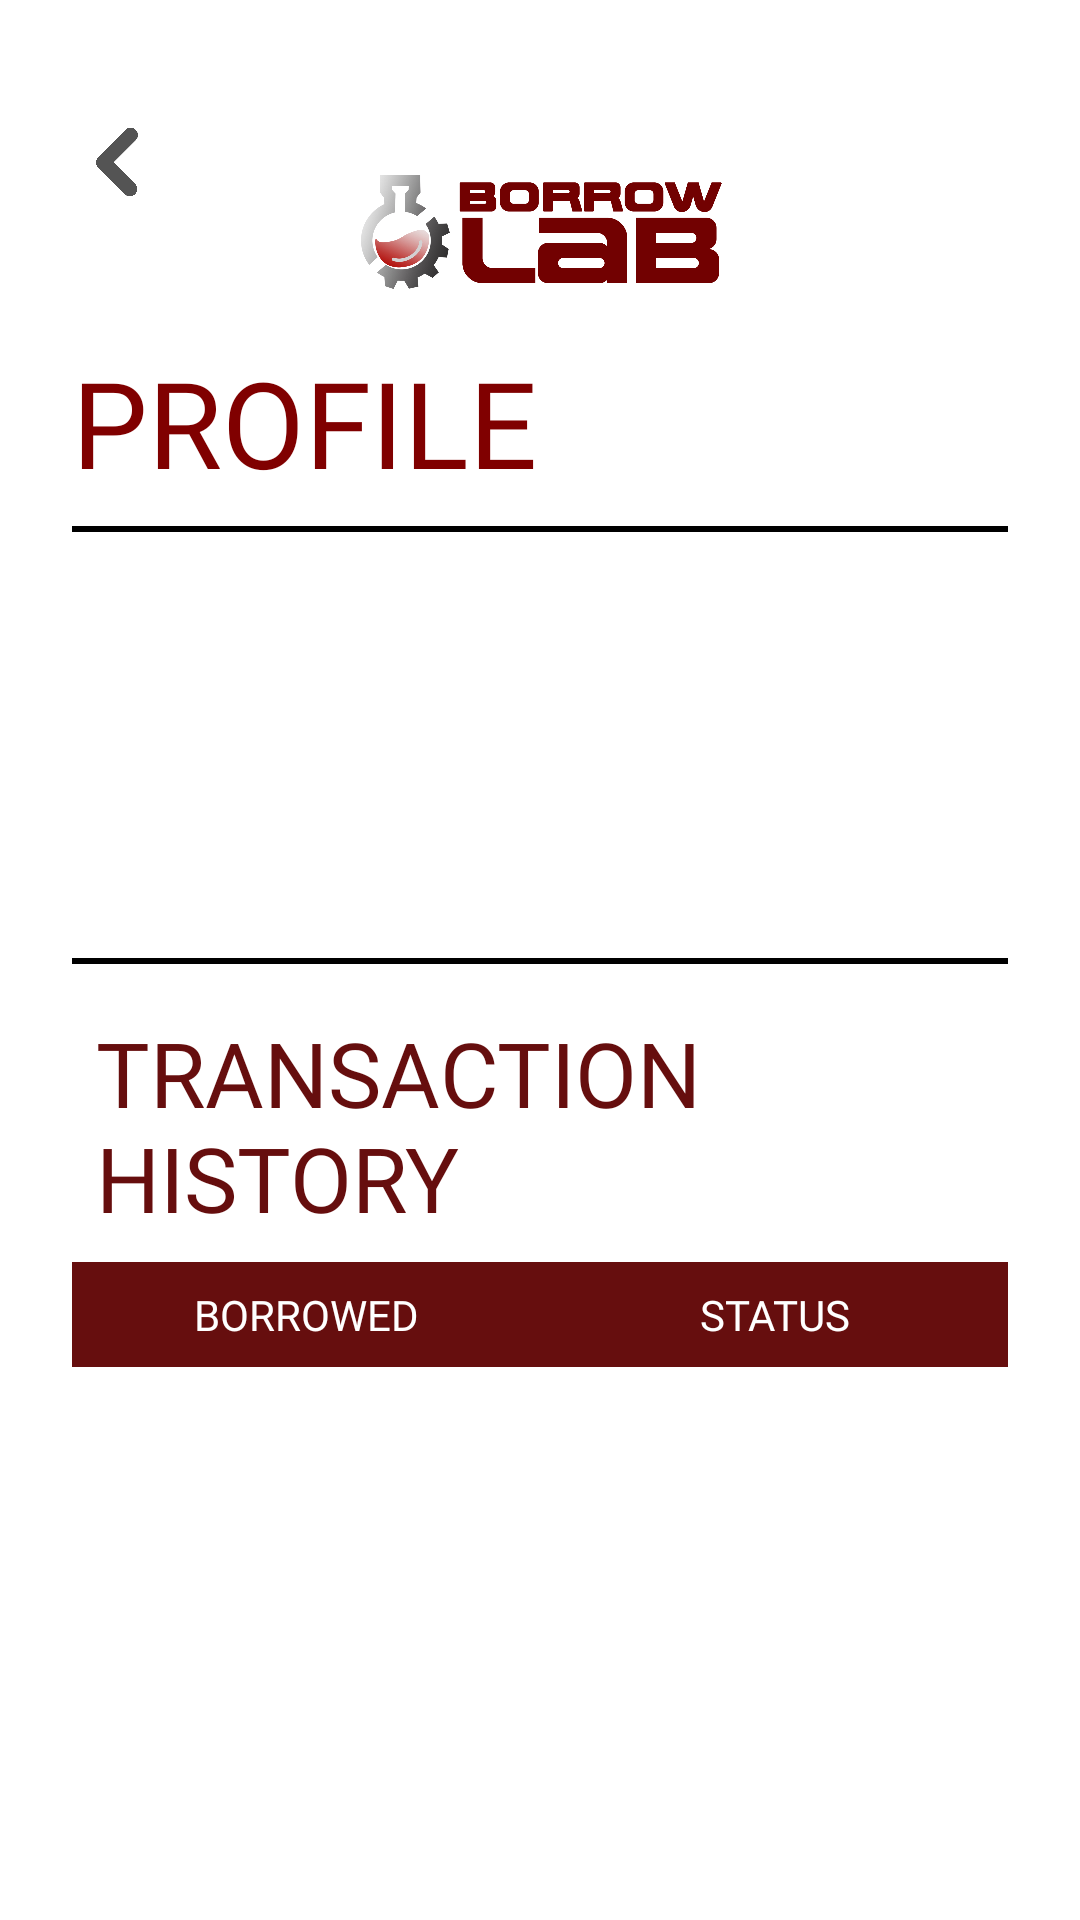

Named icons in this screenshot (1080 x 1920) and their bounding boxes, (x1, y1, x2, y2):
Back Button: (96, 128, 138, 196)
